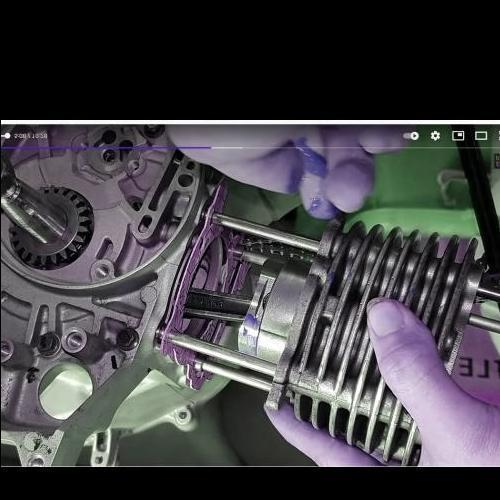hole: (62, 328, 82, 351), (124, 154, 141, 173), (91, 262, 108, 280), (0, 337, 12, 361)
